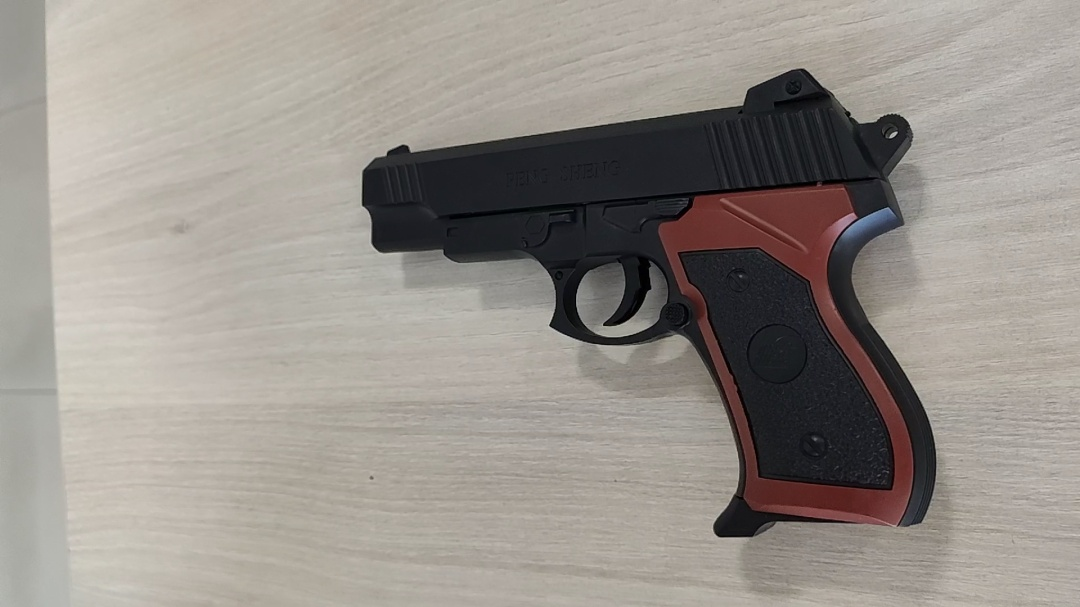gun: (412, 206, 479, 255)
